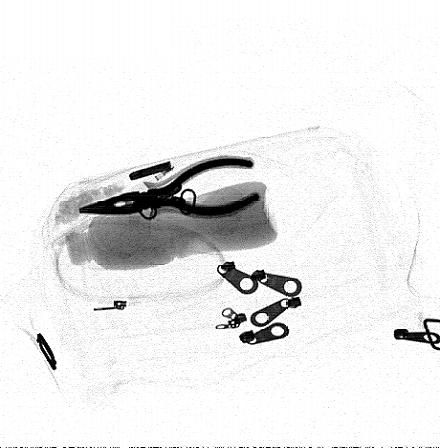Pliers: (76, 158, 263, 220)
